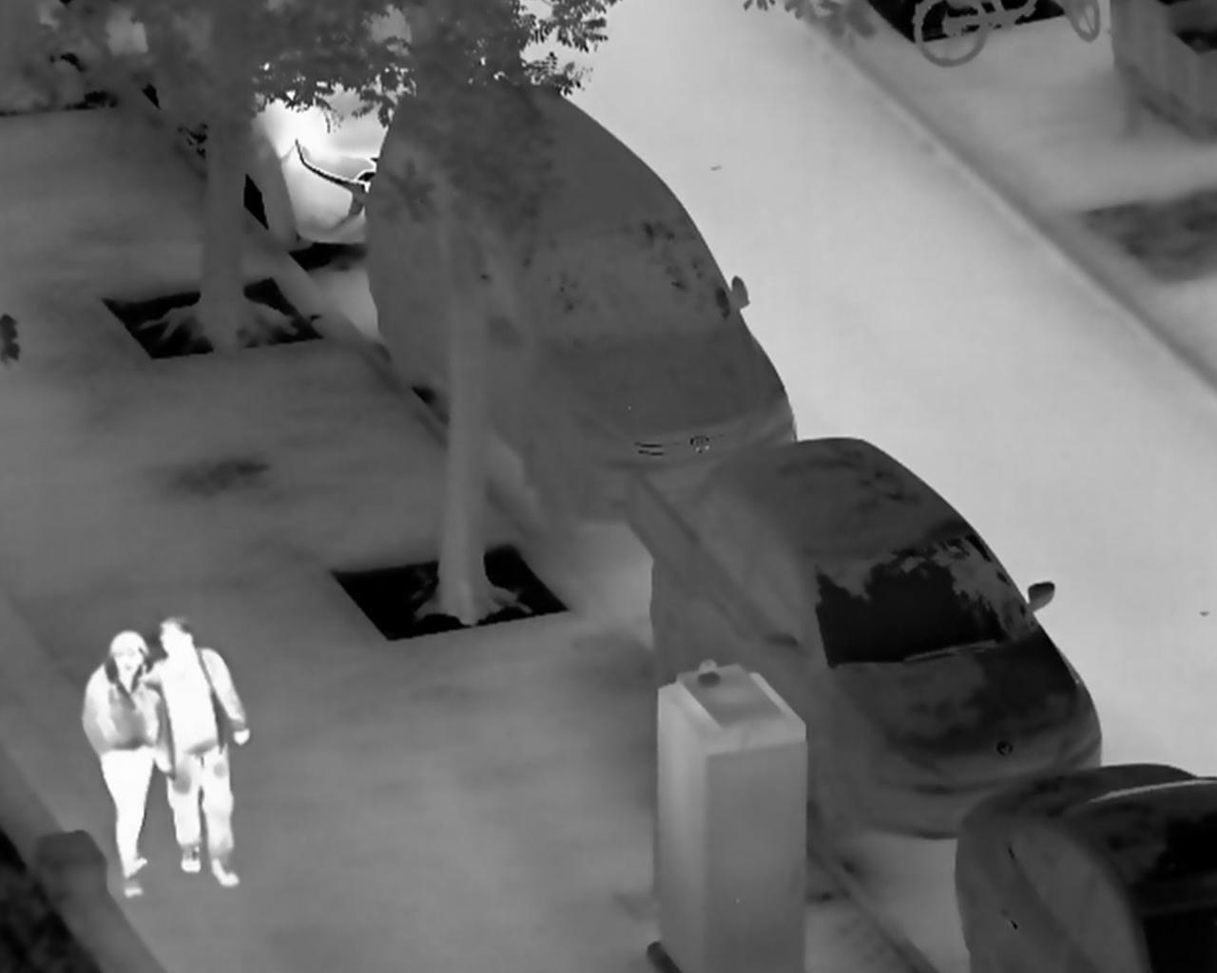person: (141, 616, 249, 890), (80, 628, 166, 900)
